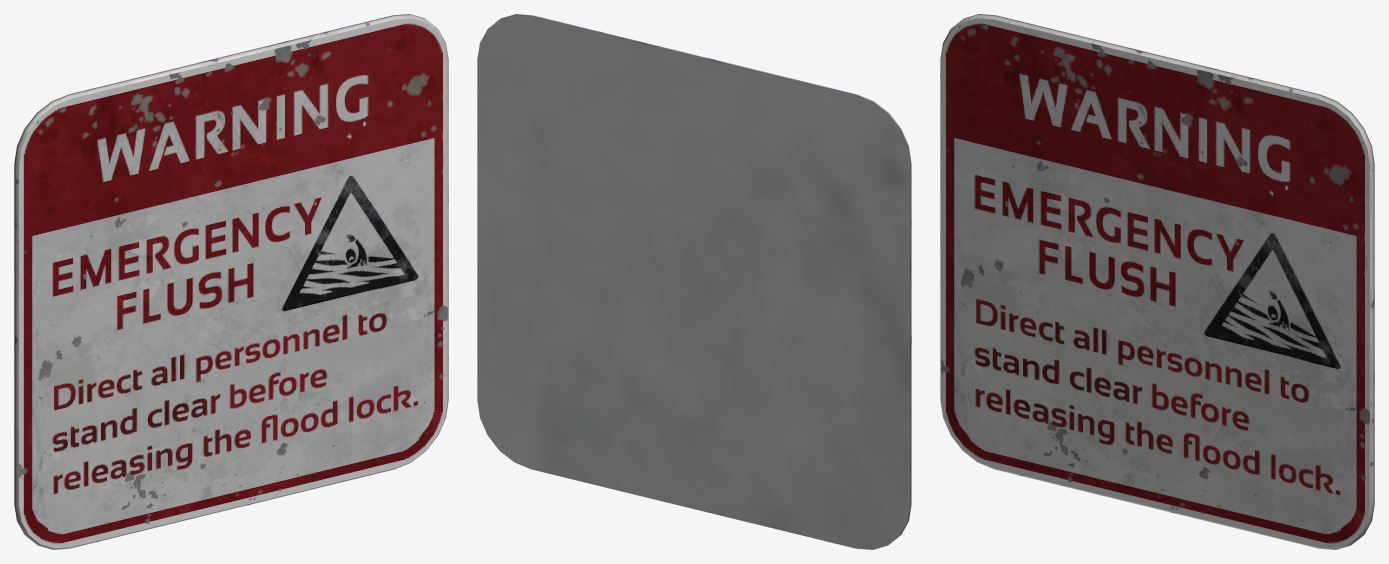
The model's file is sign_emergency_flush_lever.dae.
3 renders of one model, left to right at view 1: azimuth 30°, elevation 25°; view 2: azimuth 150°, elevation 25°; view 3: azimuth 330°, elevation 25°, orthographic.
Parts seen in each view (by area): view 1: pCube2; view 2: pCube2; view 3: pCube2.
Boxes of the visible parts, bbox=[...] form: pCube2: bbox=[14, 14, 448, 549]; pCube2: bbox=[477, 14, 911, 549]; pCube2: bbox=[940, 14, 1374, 549].
Bounding box in the file's own units: 0.6855 × 0.6855 × 0.00742.
1 material, 1 textured.
